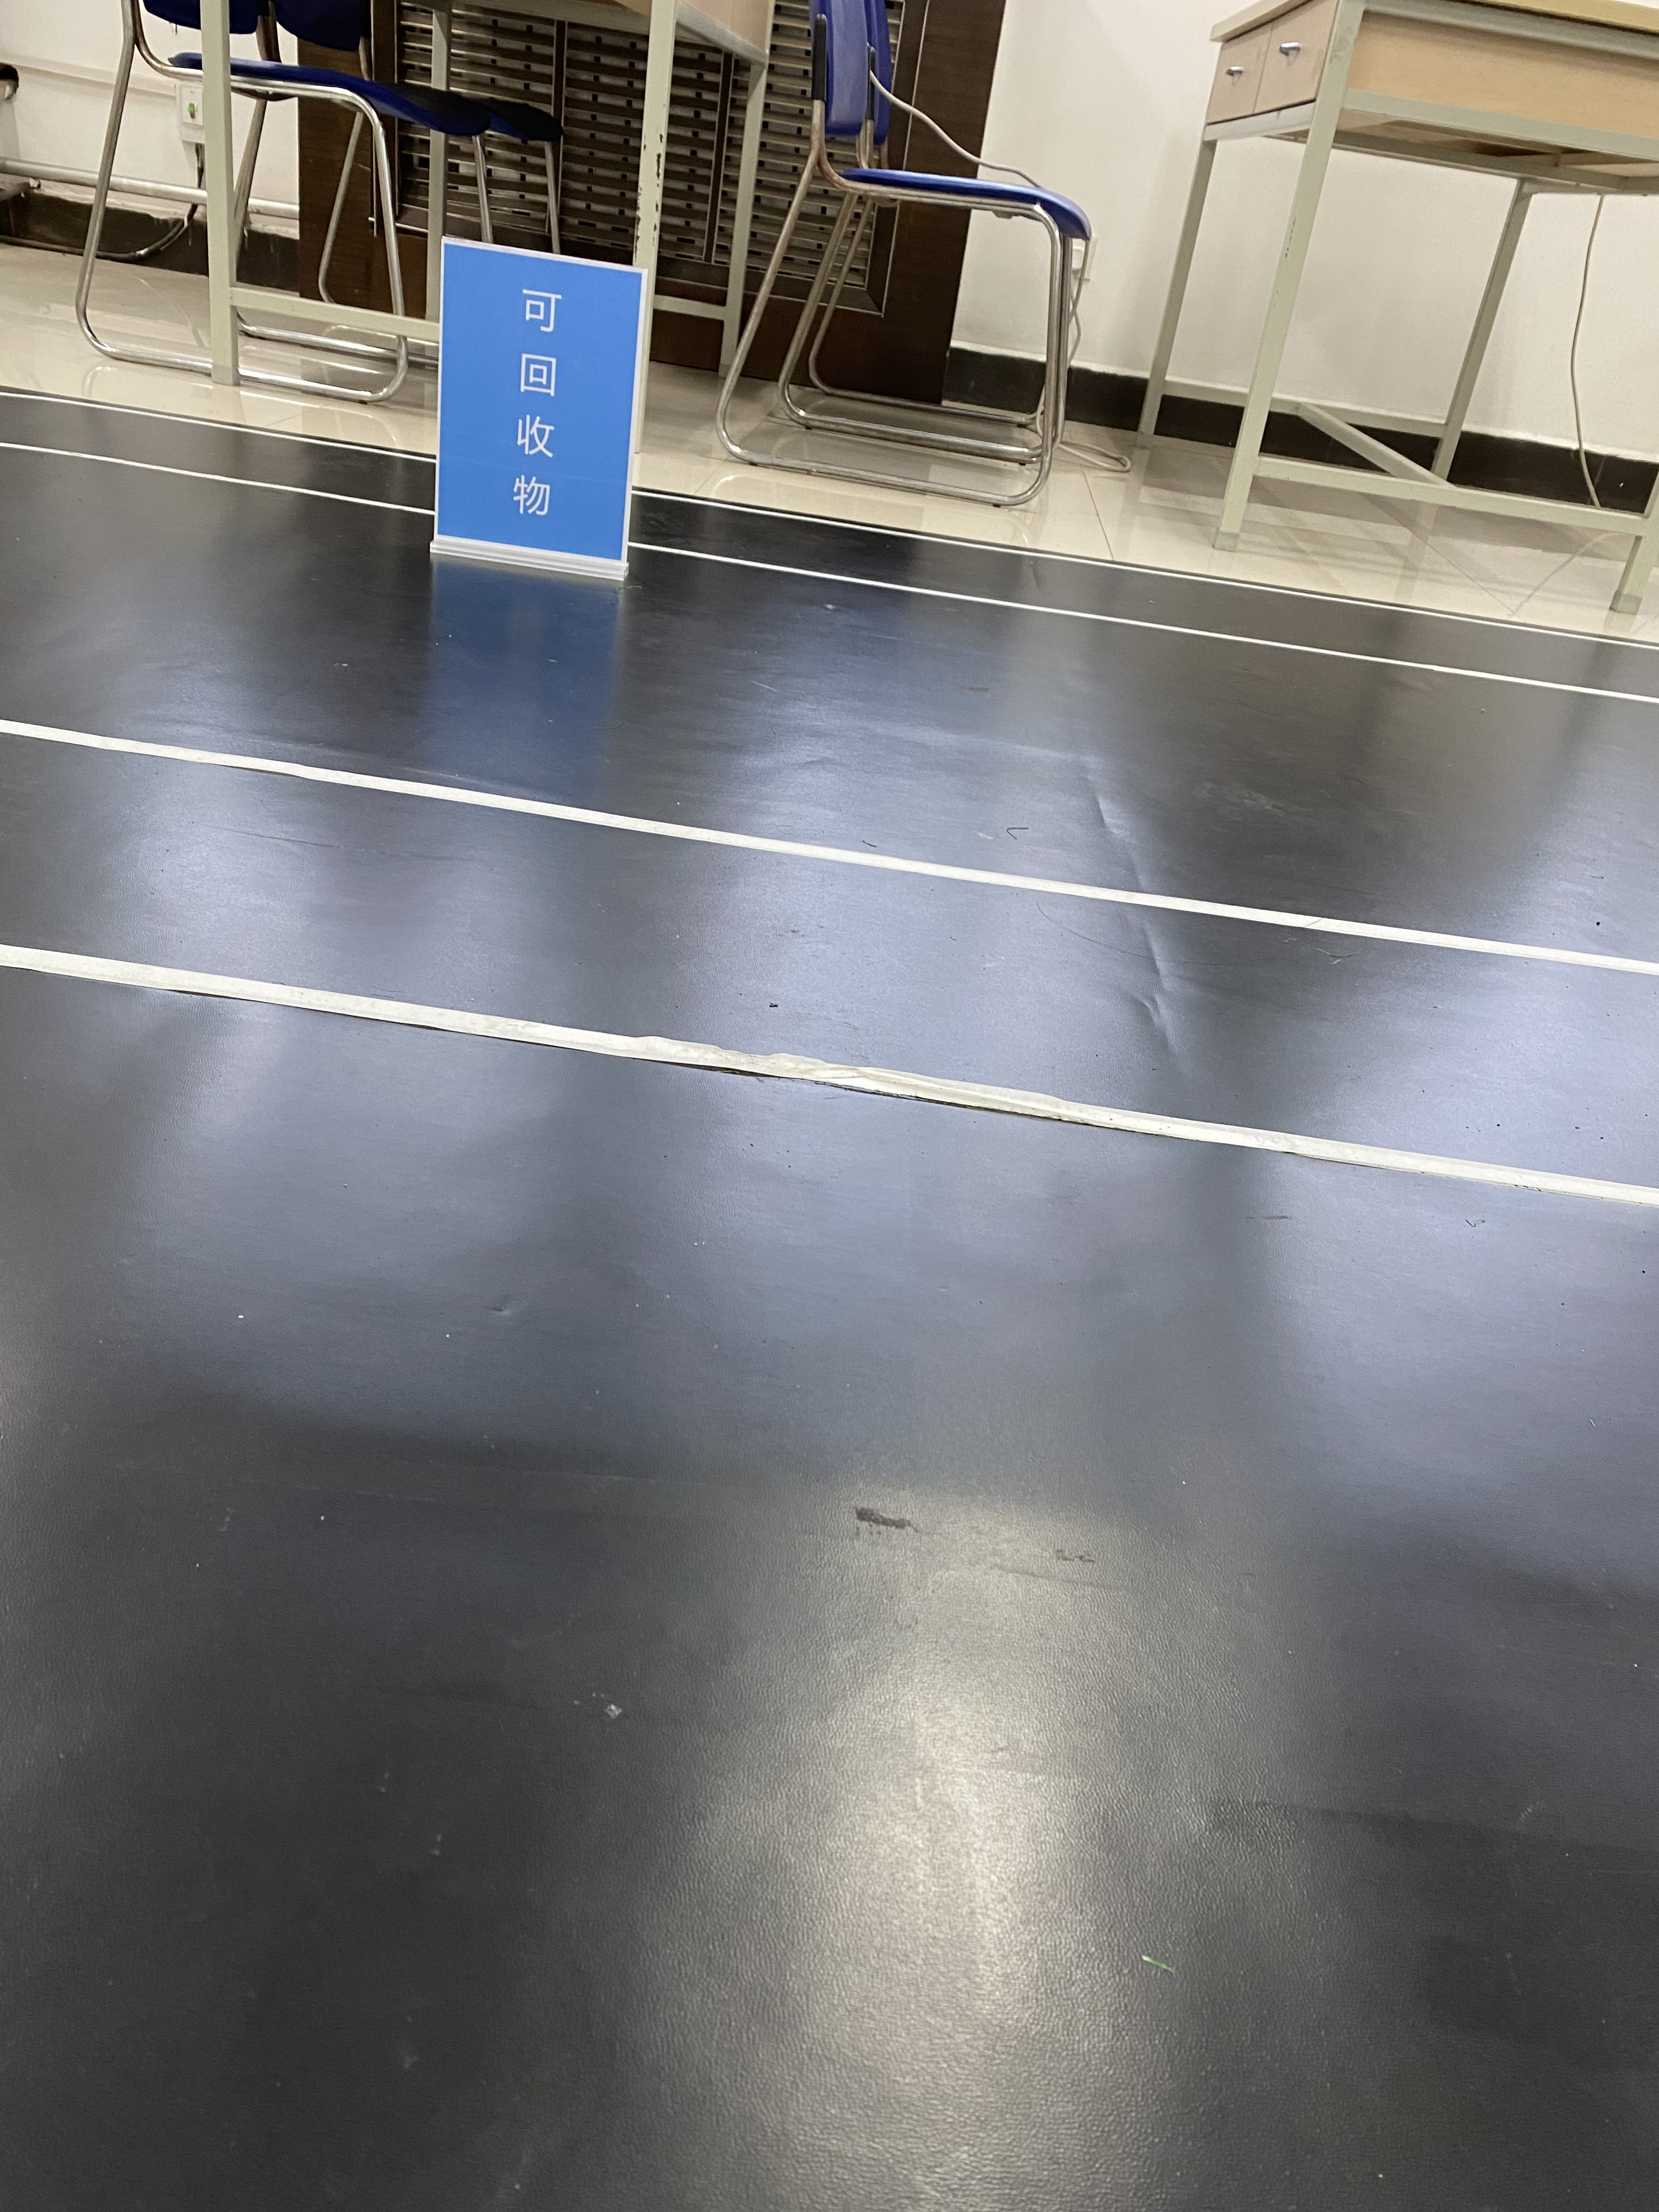blue: (448, 249, 624, 554)
